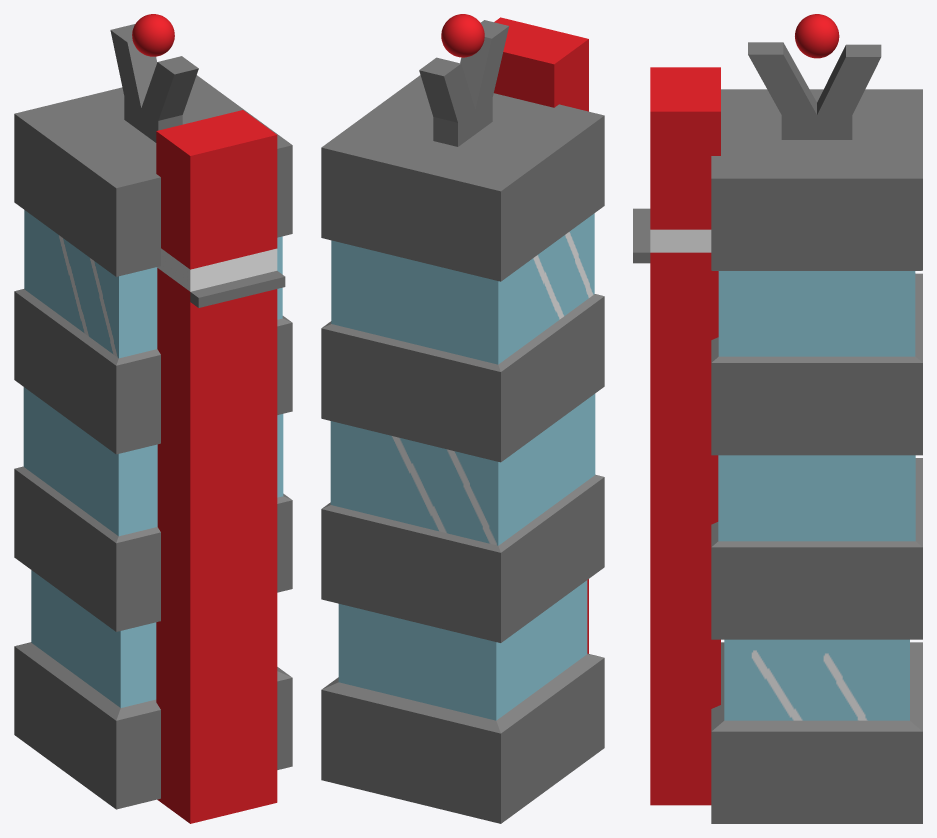
Rendered from building1.fbx.
3 views of the same model, side by side, from view 1: azimuth 30°, elevation 25°; view 2: azimuth 150°, elevation 25°; view 3: azimuth 270°, elevation 25° (orthographic). The views are drawn at different scales.
Visible parts, largest first — view 1: Cube; view 2: Cube; view 3: Cube.
Boxes of the visible parts, <box> form: Cube: <box>14,14,292,823</box>; Cube: <box>321,14,604,823</box>; Cube: <box>633,14,922,823</box>.
Bounding box in the file's own units: 1862 × 7450 × 2550.
Materials: 1 (1 with a texture image).
